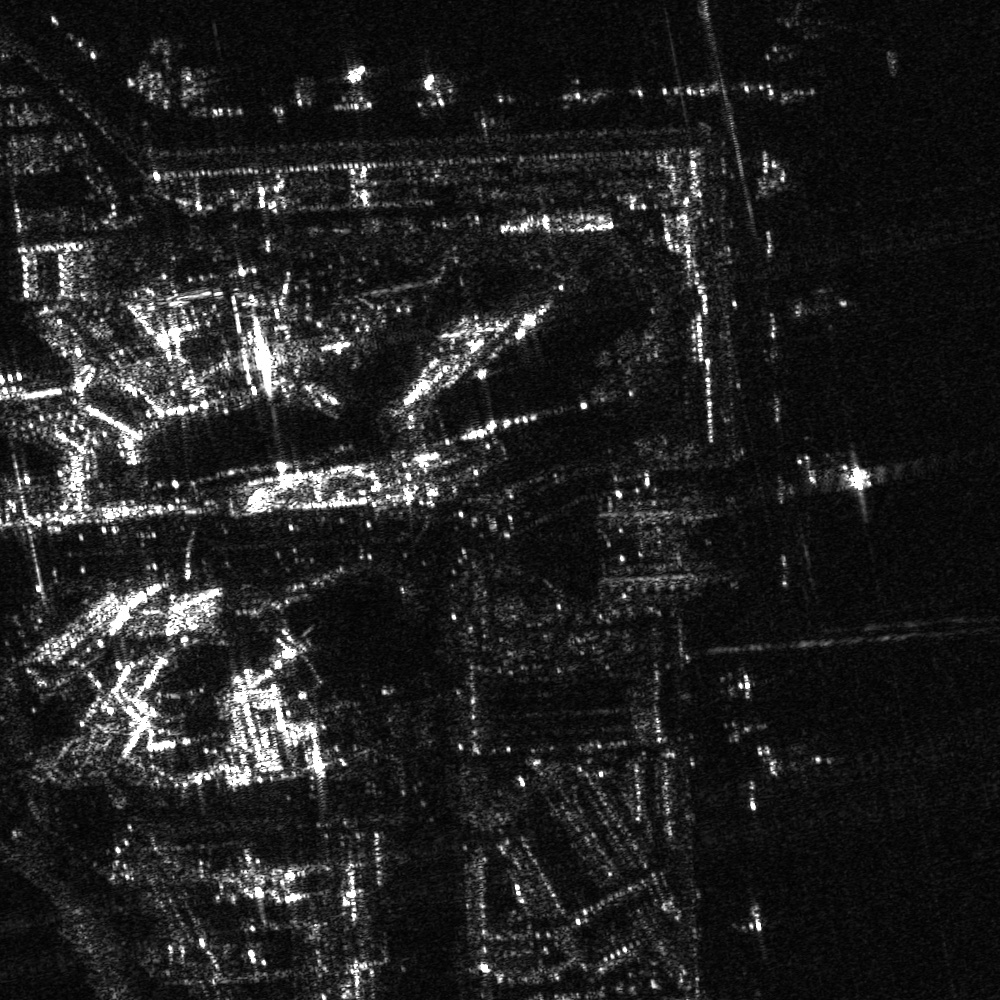A220: (783, 419, 902, 519), (738, 734, 844, 791), (785, 273, 862, 342)
A320/321: (733, 1, 865, 75)
